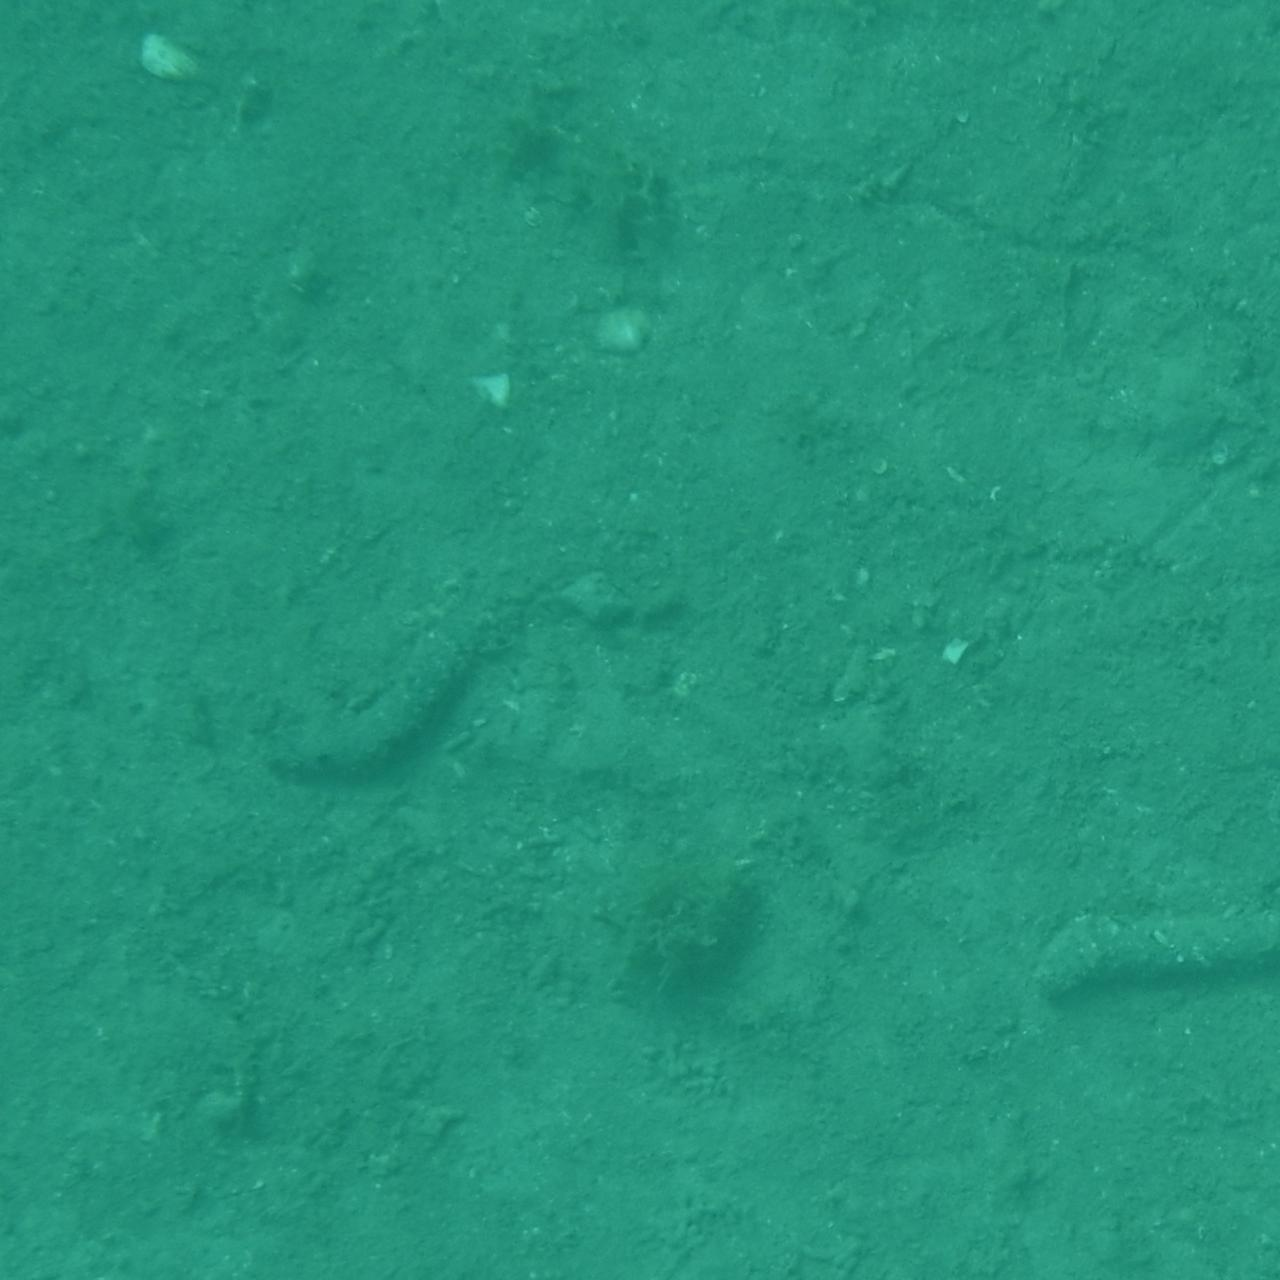Holothuria tubulosa: (270, 614, 515, 796), (1169, 540, 1280, 794), (1046, 888, 1280, 1005), (0, 141, 200, 268), (1198, 920, 1280, 1232)
